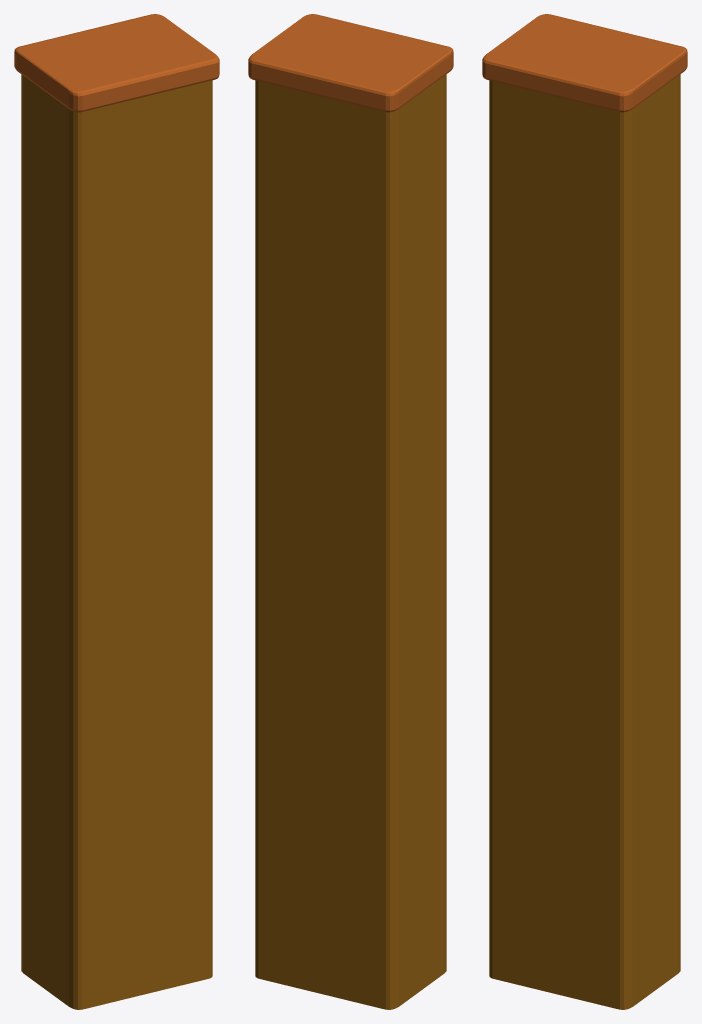
Rendered from Floor 2.fbx.
The picture shows the model from 3 angles, left to right: view 1: azimuth 30°, elevation 25°; view 2: azimuth 150°, elevation 25°; view 3: azimuth 330°, elevation 25°; orthographic projection.
Visible parts, largest first — view 1: Floor2; view 2: Floor2; view 3: Floor2.
Boxes of the visible parts, box(x1,y1,x2,y2) form: Floor2: box(14, 14, 219, 1009); Floor2: box(248, 14, 453, 1009); Floor2: box(482, 14, 687, 1009).
Bounding box in the file's own units: 1056 × 6270 × 802.
